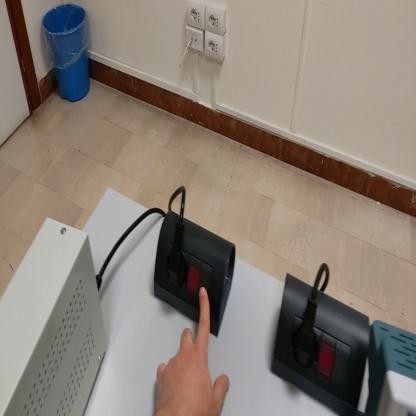hand: (155, 289, 232, 415)
oscilloscope: (371, 317, 416, 416)
power supply: (1, 210, 110, 416)
socket: (271, 269, 370, 416), (151, 209, 236, 336)
